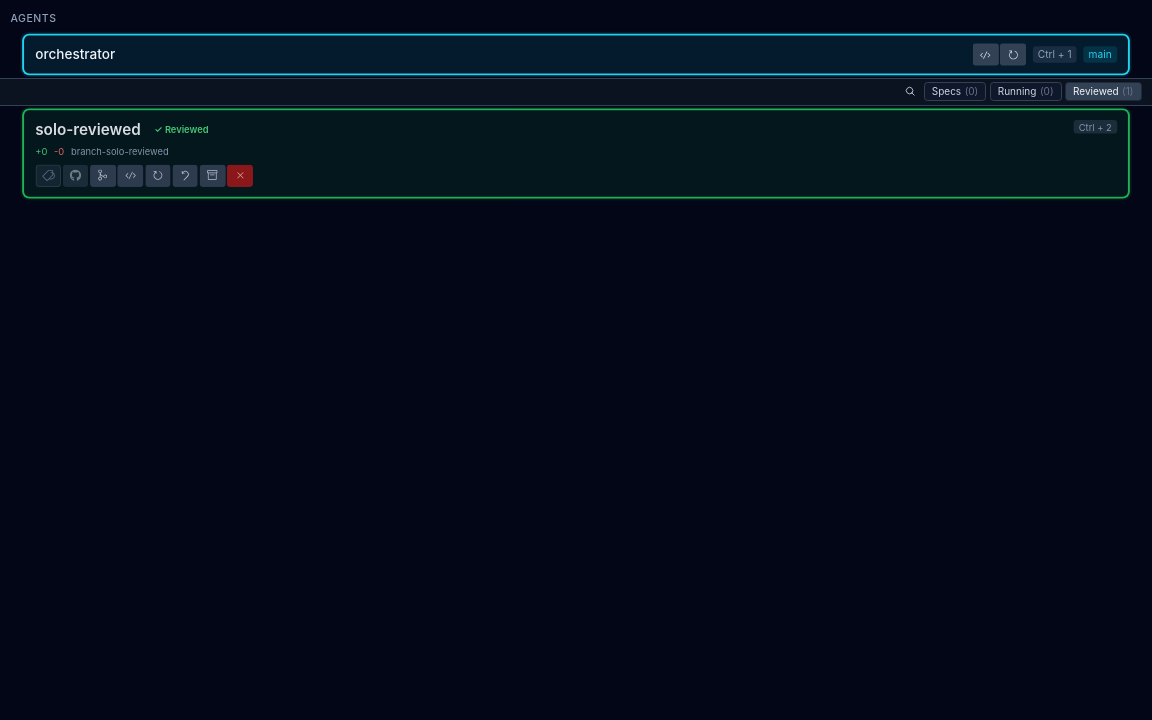
Merge selection progression › falls back to orchestrator when no reviewed sessions remain after merge
This screenshot has width=1152, height=720.
Click the text "solo-reviewed". click: (88, 129)
box: left=34, top=120, right=142, bottom=139
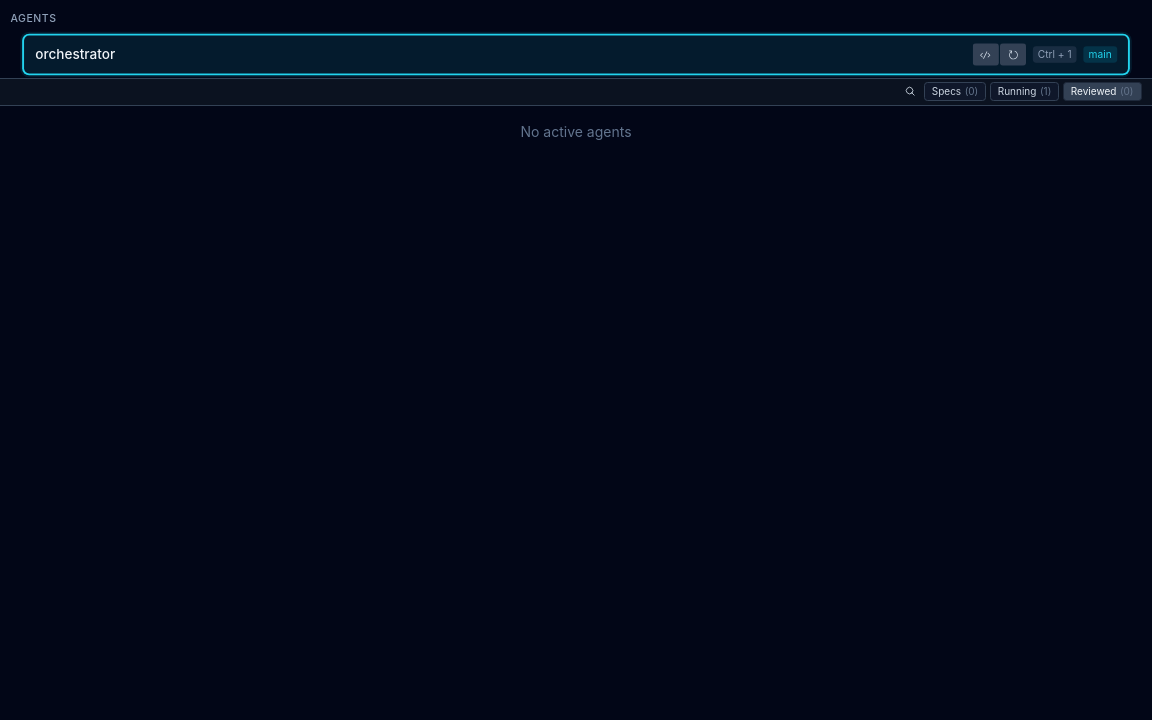
Expected: the button "solo-reviewed" is gone
